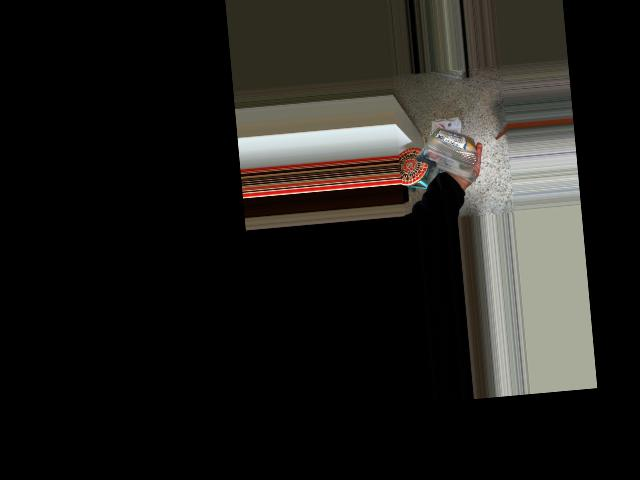cheese: (433, 110, 466, 176)
